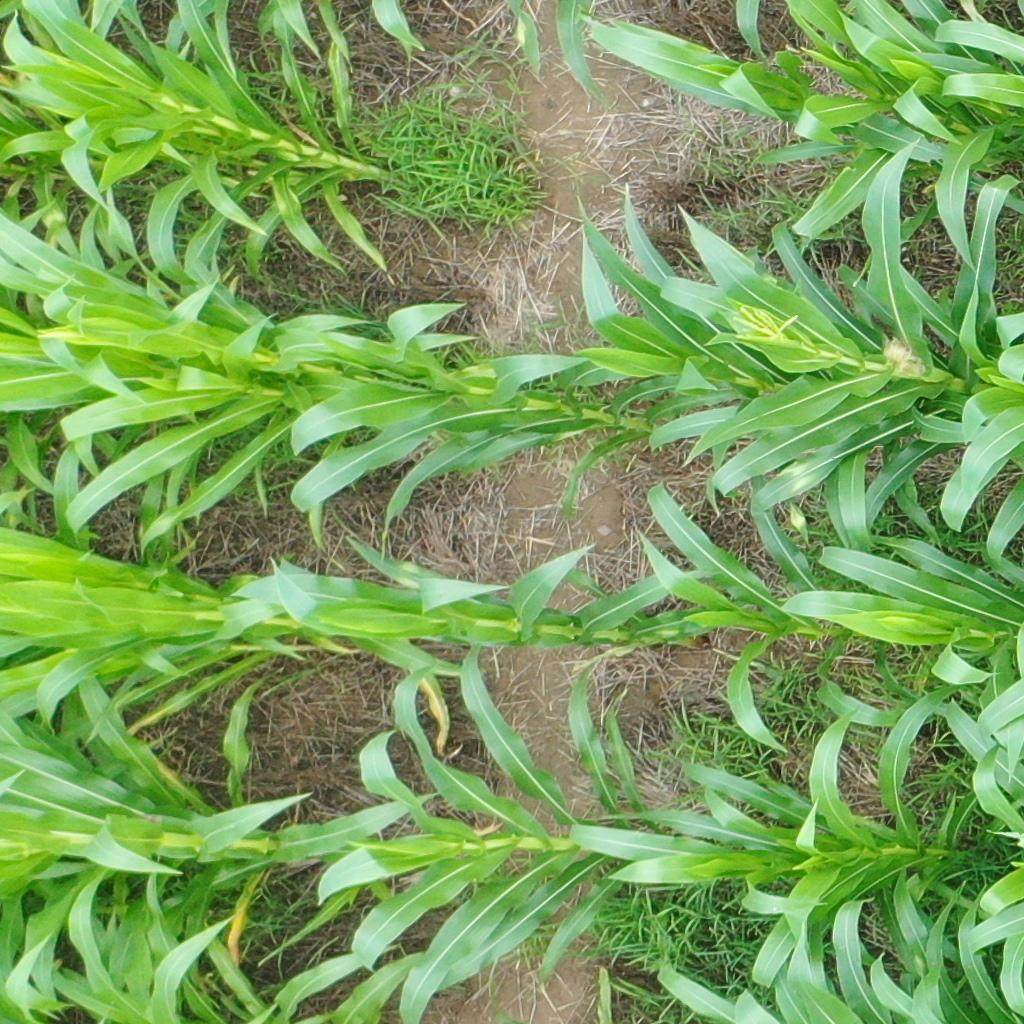Tassel: (728, 303, 800, 344)
